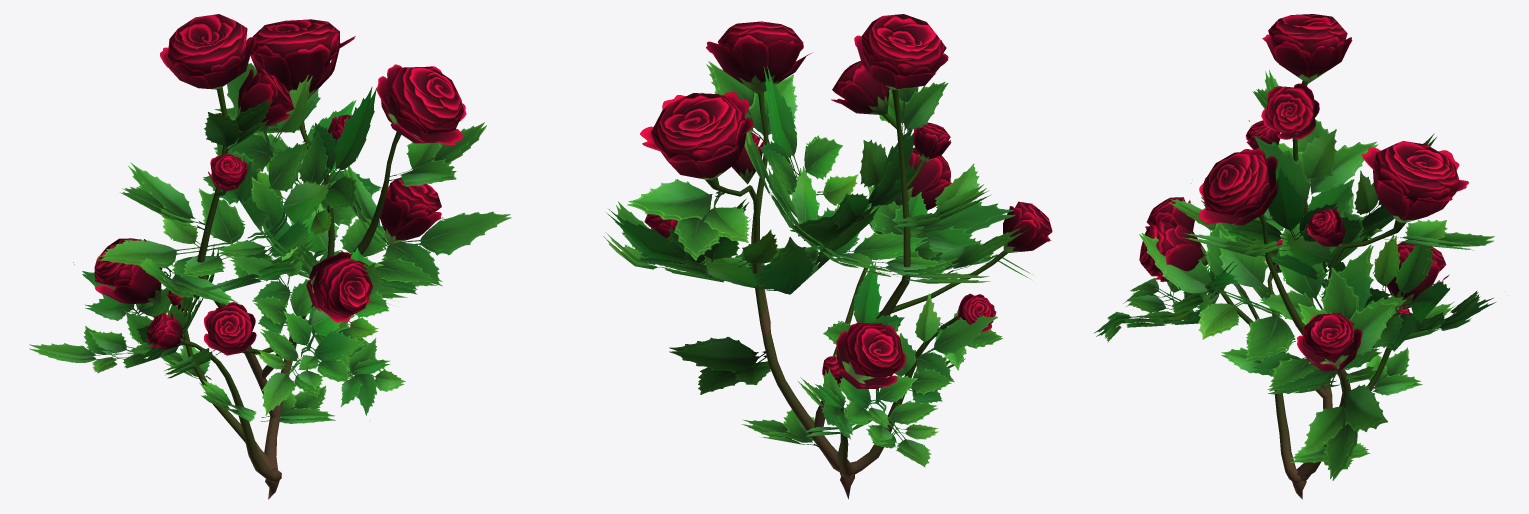
File: SE_Rose_10.fbx
3 renders of one model, left to right at view 1: azimuth 30°, elevation 25°; view 2: azimuth 150°, elevation 25°; view 3: azimuth 270°, elevation 25°, orthographic. The views are drawn at different scales.
Visible parts, largest first — view 1: SE_Rose_10; view 2: SE_Rose_10; view 3: SE_Rose_10.
Part boxes in pixels (x1,y1,x2,y2): SE_Rose_10: (29, 14, 511, 499); SE_Rose_10: (603, 14, 1052, 499); SE_Rose_10: (1094, 14, 1495, 499).
Size of the model in its own units: 5.25 by 5.55 by 4.74.
